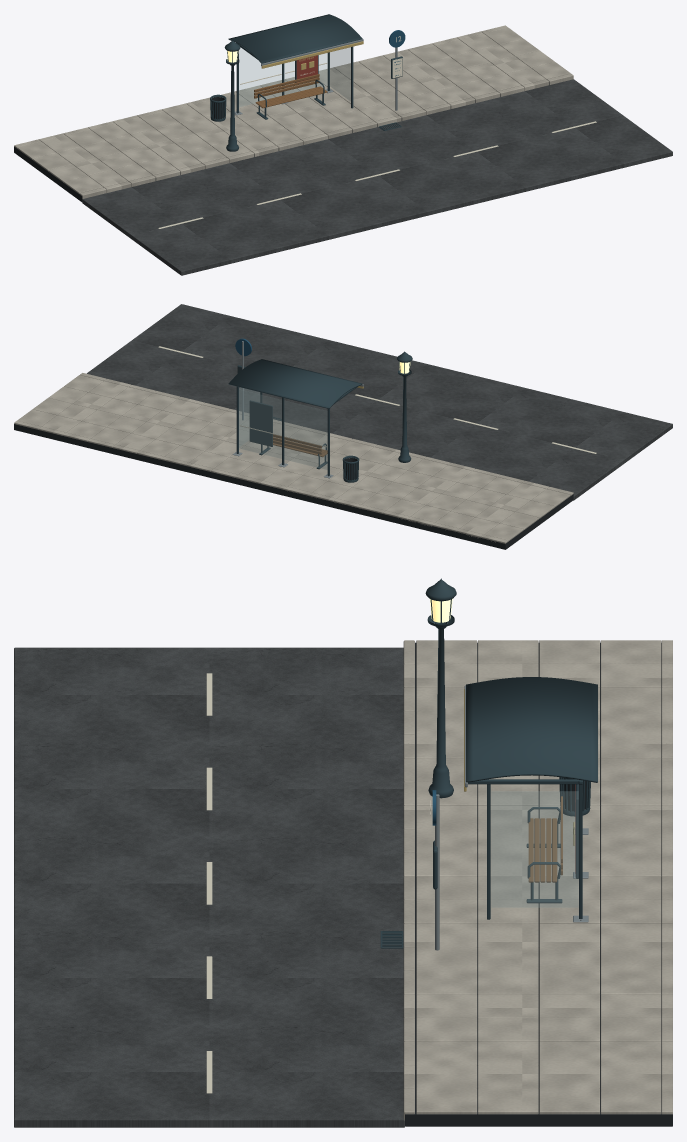
The model's file is gloryland-station.glb.
3 views of the same model, one above another, from view 1: azimuth 30°, elevation 25°; view 2: azimuth 150°, elevation 25°; view 3: azimuth 270°, elevation 25° (orthographic). The views are drawn at different scales.
Visible parts, largest first — view 1: Road_and_pavement__asphalt, Road_and_pavement__stone, Shelter__powder coated iron, Shelter__toughened shelter glass, Bench__oiled ash slats, Streetlamp__powder coated iron, Road_and_pavement__rubber and cavity, Shelter__aged brass details, Road_and_pavement__worn road paint; view 2: Road_and_pavement__asphalt, Road_and_pavement__stone, Shelter__toughened shelter glass, Shelter__powder coated iron, Road_and_pavement__rubber and cavity, Streetlamp__powder coated iron, Bench__oiled ash slats, Road_and_pavement__worn road paint; view 3: Road_and_pavement__asphalt, Road_and_pavement__stone, Shelter__powder coated iron, Shelter__toughened shelter glass, Road_and_pavement__rubber and cavity, Streetlamp__powder coated iron, Bench__oiled ash slats, Road_and_pavement__worn road paint.
Part boxes in pixels (x1,y1,x2,y2): Road_and_pavement__asphalt: (82,79,672,275); Road_and_pavement__stone: (14,25,573,198); Shelter__powder coated iron: (228,14,362,113); Shelter__toughened shelter glass: (239,47,350,106); Bench__oiled ash slats: (254,74,327,108); Streetlamp__powder coated iron: (224,40,240,151); Road_and_pavement__rubber and cavity: (14,82,549,201); Shelter__aged brass details: (261,41,363,70); Road_and_pavement__worn road paint: (158,121,596,228); Road_and_pavement__asphalt: (87,304,672,500); Road_and_pavement__stone: (14,373,573,543); Shelter__toughened shelter glass: (239,387,327,469); Shelter__powder coated iron: (228,359,362,476); Road_and_pavement__rubber and cavity: (14,424,573,549); Streetlamp__powder coated iron: (397,351,412,462); Bench__oiled ash slats: (273,434,327,456); Road_and_pavement__worn road paint: (158,346,596,453); Road_and_pavement__asphalt: (14,647,404,1127); Road_and_pavement__stone: (403,640,672,1121); Shelter__powder coated iron: (466,677,597,919); Shelter__toughened shelter glass: (491,791,578,907); Road_and_pavement__rubber and cavity: (405,642,672,1126); Streetlamp__powder coated iron: (425,578,456,798); Bench__oiled ash slats: (528,796,562,882); Road_and_pavement__worn road paint: (206,673,212,1093).
Bounding box in the file's own units: 20 × 4.57 × 11.8.
13 materials, 2 textured.
